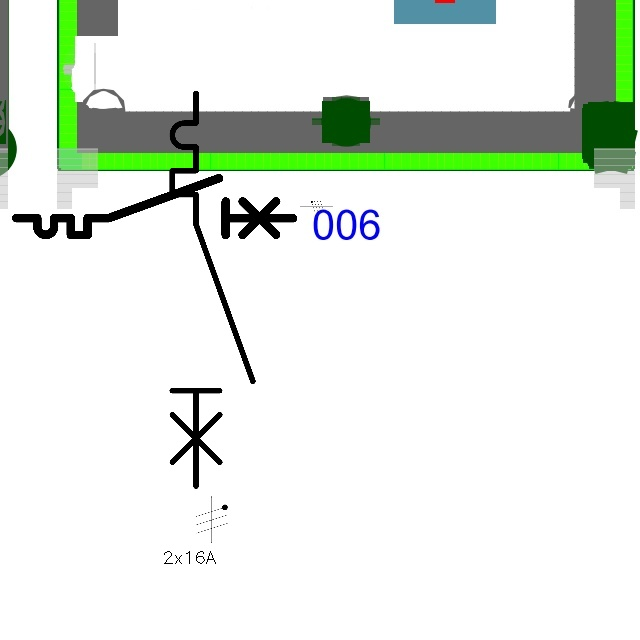interruptor_termomagnetico: (162, 83, 263, 496), (9, 171, 300, 242)
